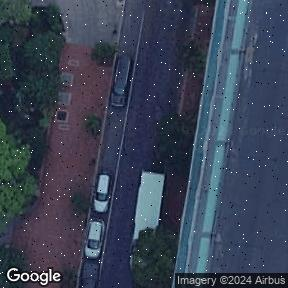vegetation: (0, 0, 64, 230), (130, 227, 177, 288), (177, 41, 212, 82), (161, 116, 193, 158), (0, 246, 21, 276), (81, 113, 106, 137), (91, 42, 115, 66), (70, 192, 91, 211)
